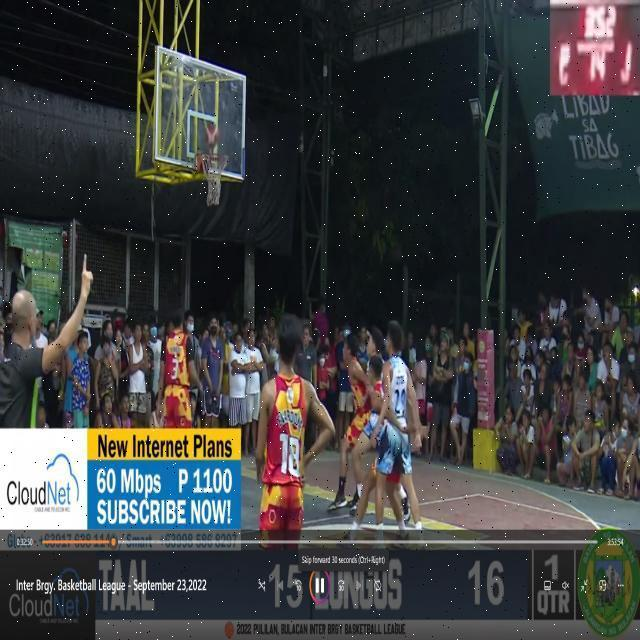ball: (202, 119, 218, 147)
hoop: (191, 151, 233, 164)
